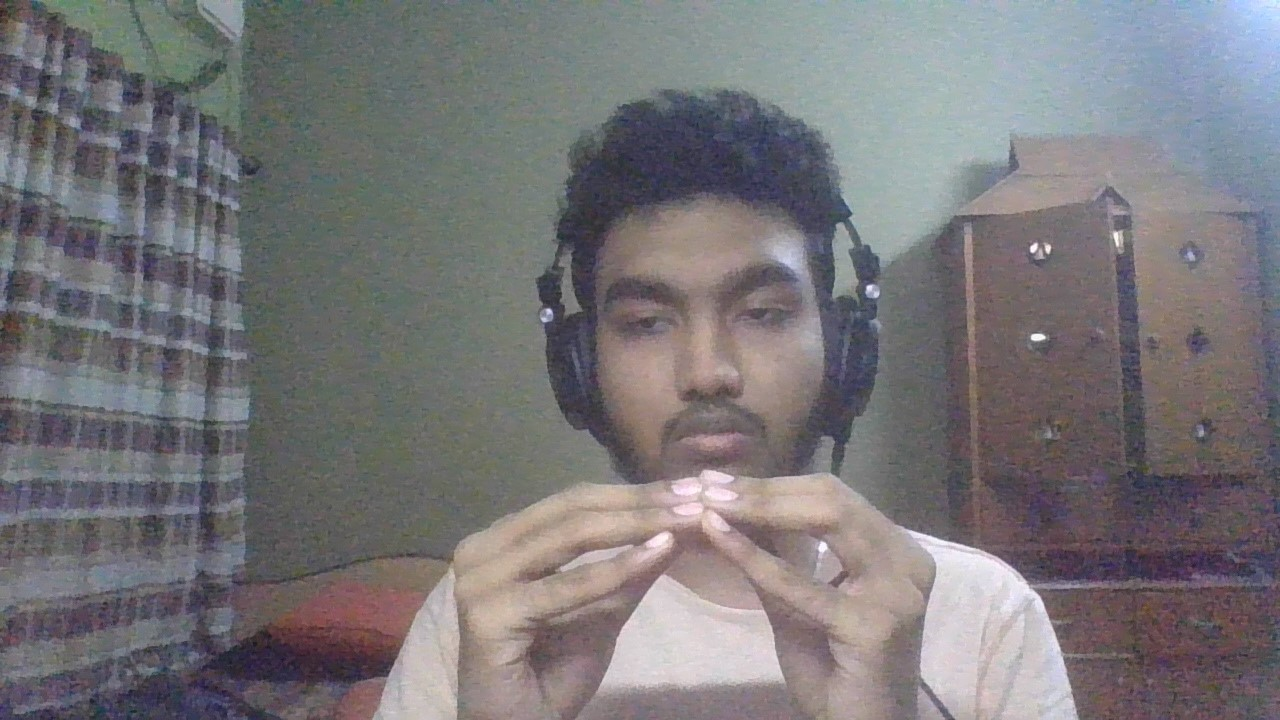More: (442, 467, 945, 720)
